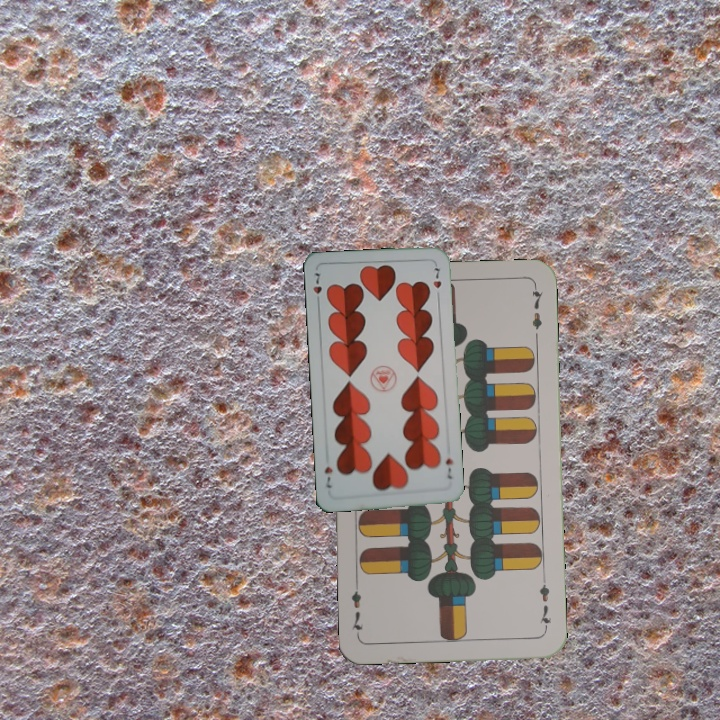E7: (535, 574, 554, 633)
H7: (309, 269, 324, 308), (441, 454, 455, 481)
